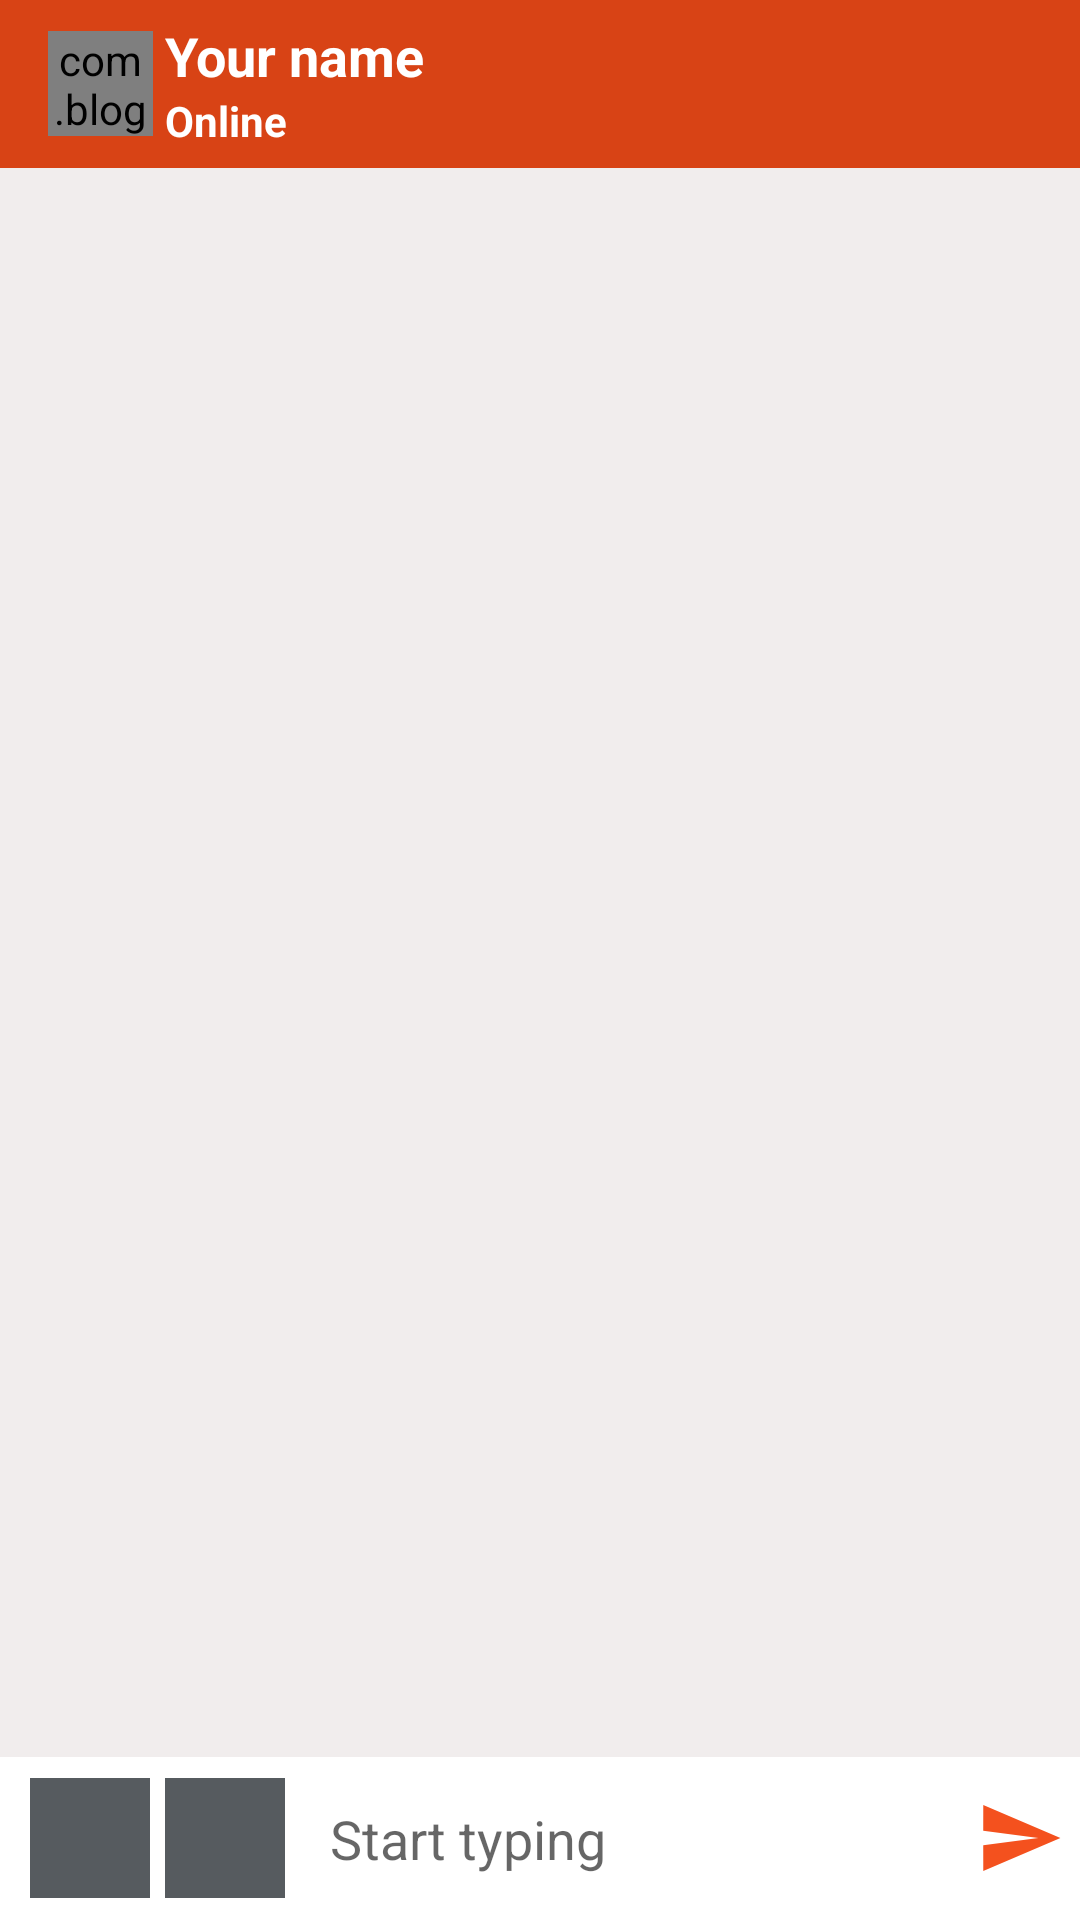

Where icons sit on this 1080w x 1920h app screen, as (x1, y1, x2, y2):
send: (983, 1805, 1060, 1871)
